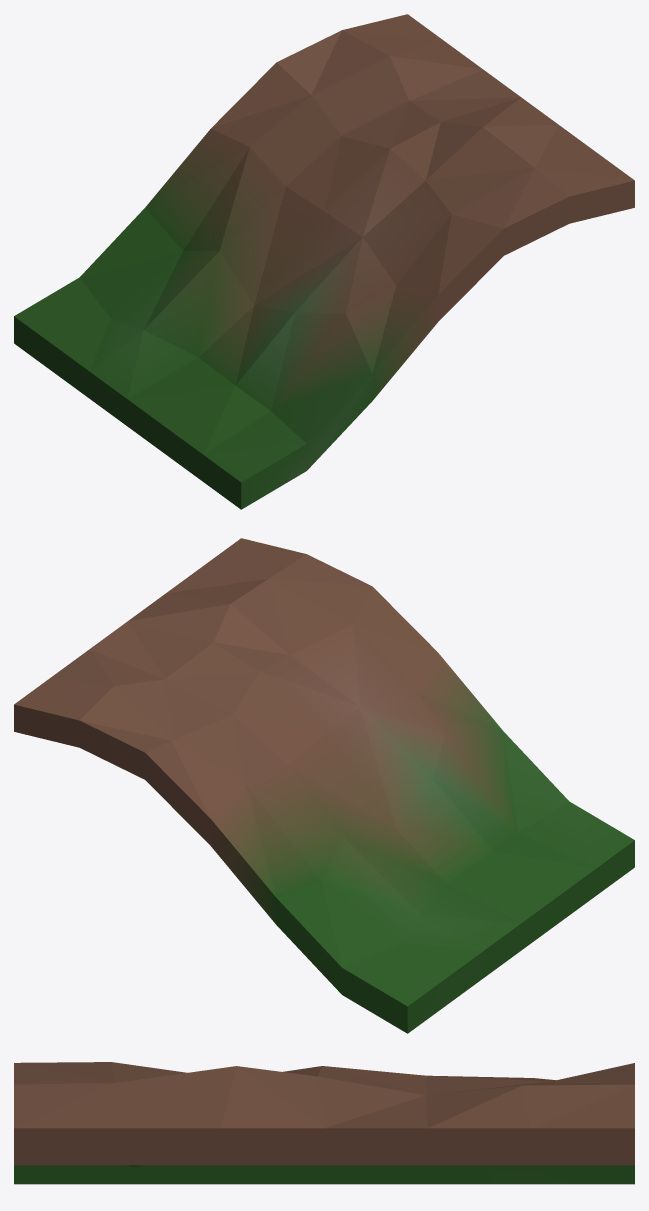
File: Slope270.fbx
The picture shows the model from 3 angles, top to bottom: view 1: azimuth 30°, elevation 25°; view 2: azimuth 150°, elevation 25°; view 3: azimuth 270°, elevation 25°; orthographic projection. The views are drawn at different scales.
Visible parts, largest first — view 1: Cliff.008; view 2: Cliff.008; view 3: Cliff.008.
Part boxes in pixels (left/top/right/bottom): Cliff.008: left=14, top=14, right=634, bottom=509; Cliff.008: left=14, top=538, right=634, bottom=1033; Cliff.008: left=14, top=1062, right=634, bottom=1184.
Size of the model in its own units: 200 by 119 by 200.
